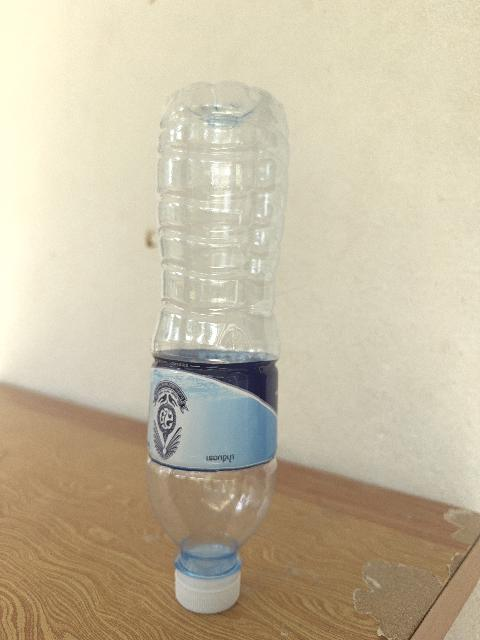bottle: (147, 82, 288, 613)
